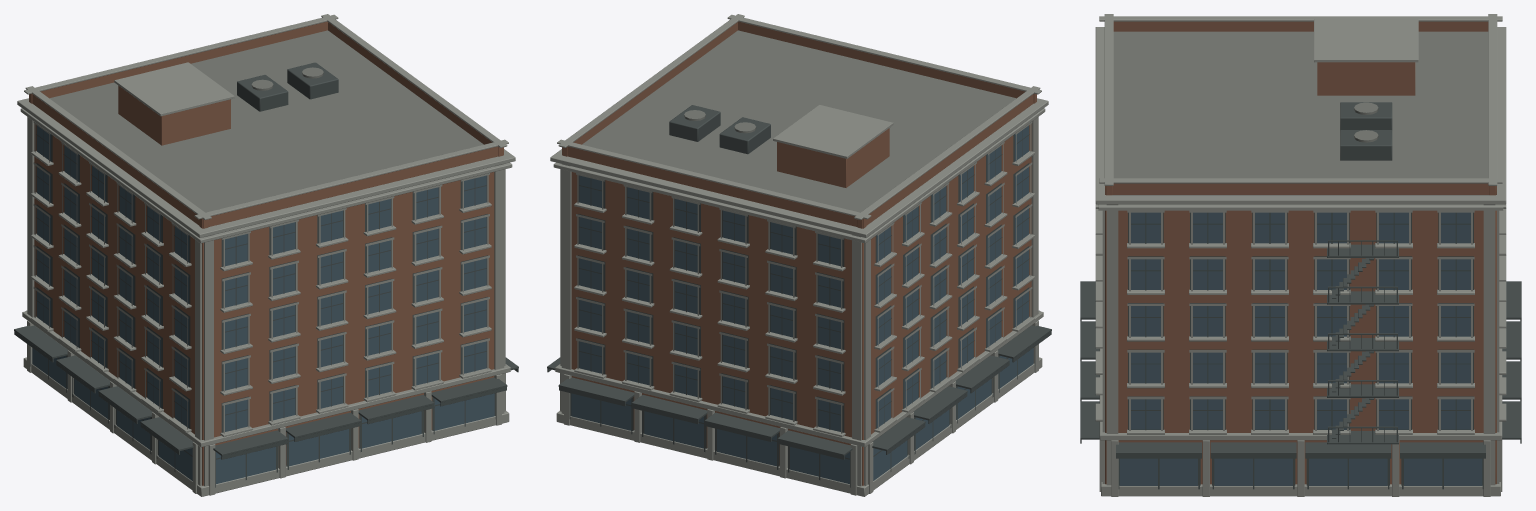
File: brick_corner.glb
The picture shows the model from 3 angles, left to right: view 1: azimuth 30°, elevation 25°; view 2: azimuth 150°, elevation 25°; view 3: azimuth 270°, elevation 25°; orthographic projection. The views are drawn at different scales.
Parts seen in each view (by area): view 1: Fired_umber_brick, Weathered_pale_concrete, Smoked_blue_glazing, Slate_roofing, Painted_charcoal_steel; view 2: Fired_umber_brick, Weathered_pale_concrete, Smoked_blue_glazing, Slate_roofing, Painted_charcoal_steel; view 3: Weathered_pale_concrete, Fired_umber_brick, Slate_roofing, Smoked_blue_glazing, Painted_charcoal_steel.
Part boxes in pixels (x1,y1,x2,y2): Fired_umber_brick: [29, 21, 503, 485]; Weathered_pale_concrete: [17, 14, 515, 496]; Smoked_blue_glazing: [32, 125, 494, 484]; Slate_roofing: [50, 30, 483, 212]; Painted_charcoal_steel: [14, 62, 518, 487]; Fired_umber_brick: [562, 21, 1036, 485]; Weathered_pale_concrete: [550, 14, 1048, 496]; Smoked_blue_glazing: [571, 125, 1033, 484]; Slate_roofing: [582, 30, 1015, 212]; Painted_charcoal_steel: [547, 105, 1051, 487]; Weathered_pale_concrete: [1095, 14, 1506, 496]; Fired_umber_brick: [1105, 21, 1496, 484]; Slate_roofing: [1112, 31, 1489, 195]; Smoked_blue_glazing: [1119, 212, 1482, 485]; Painted_charcoal_steel: [1080, 102, 1521, 489].
Bounding box in the file's own units: 27.23 × 22.83 × 27.05.
